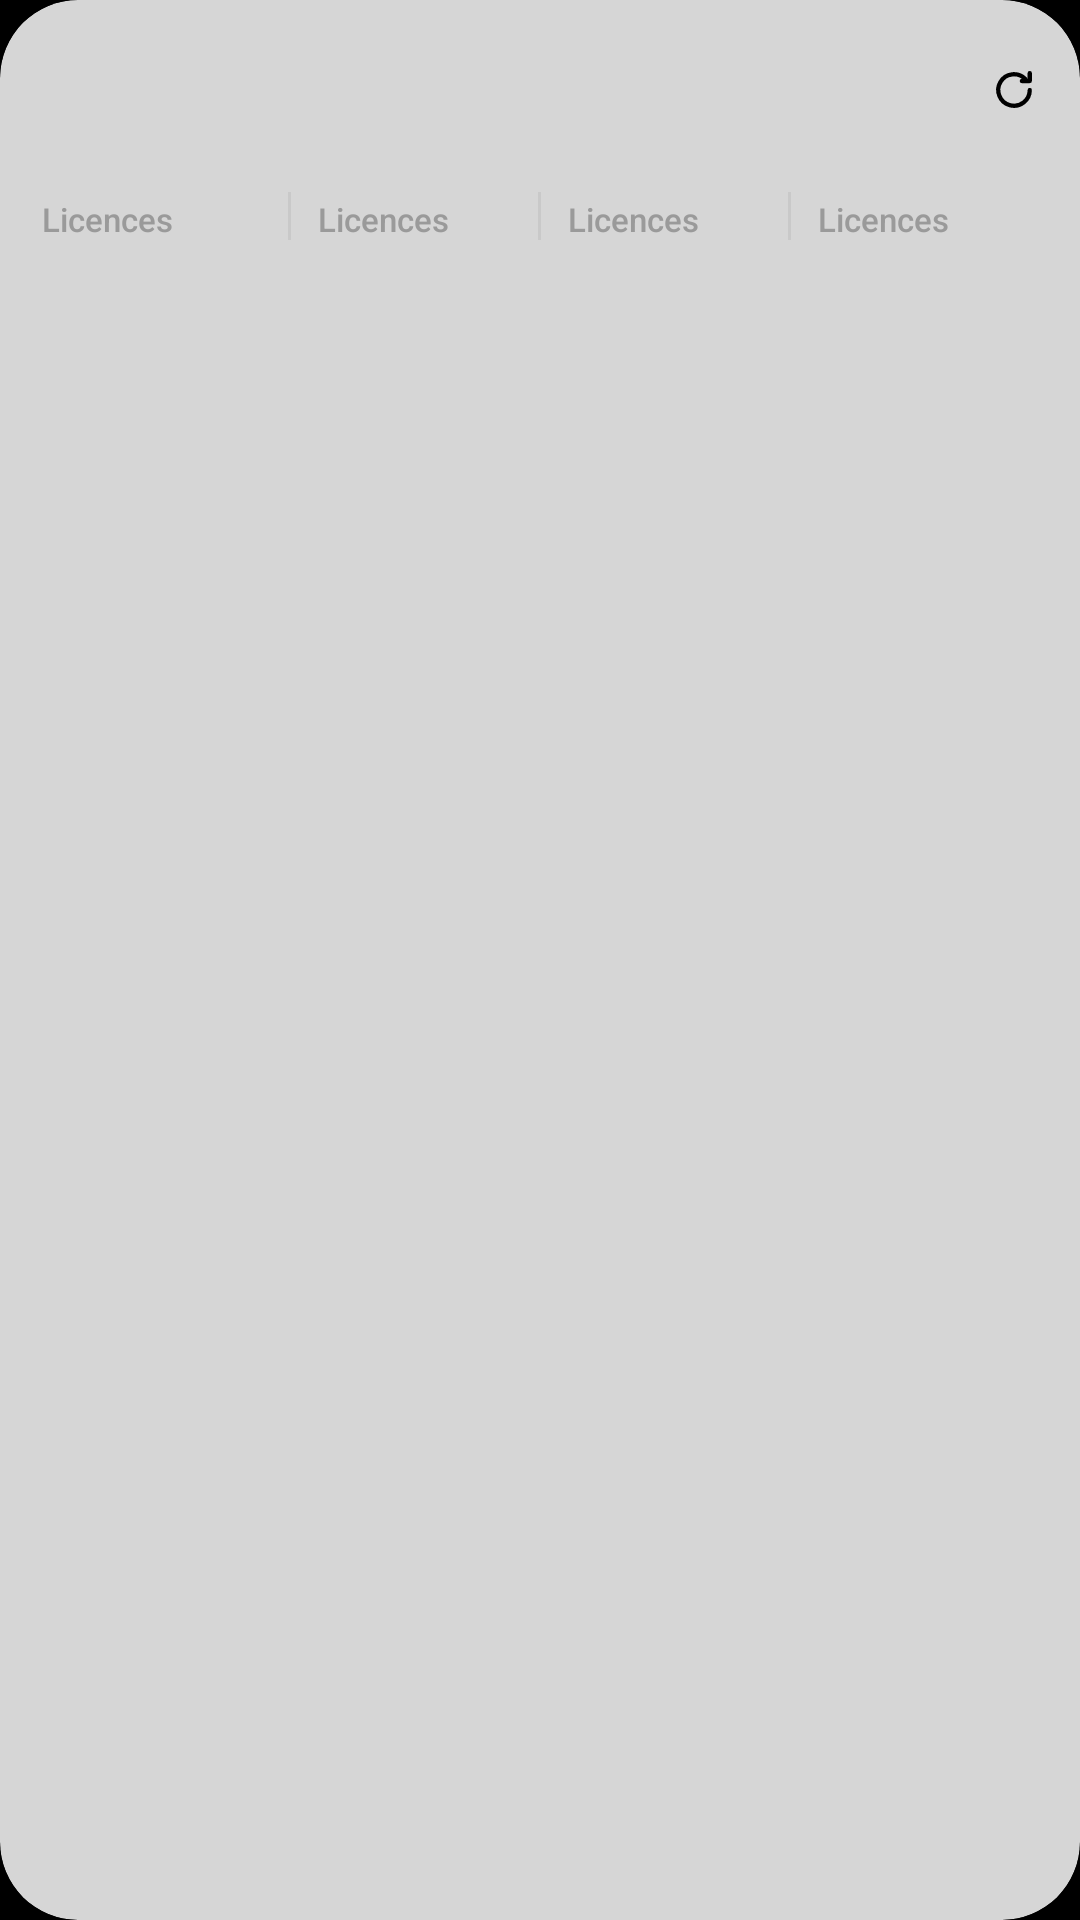

Icon click points for this 1080 × 1920 phone screenshot, format point (x, y):
Check for news now: point (1014, 89)
